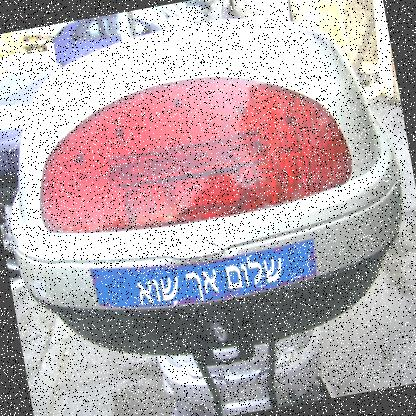Car: (0, 99, 60, 279), (50, 0, 214, 64), (21, 26, 50, 56)
